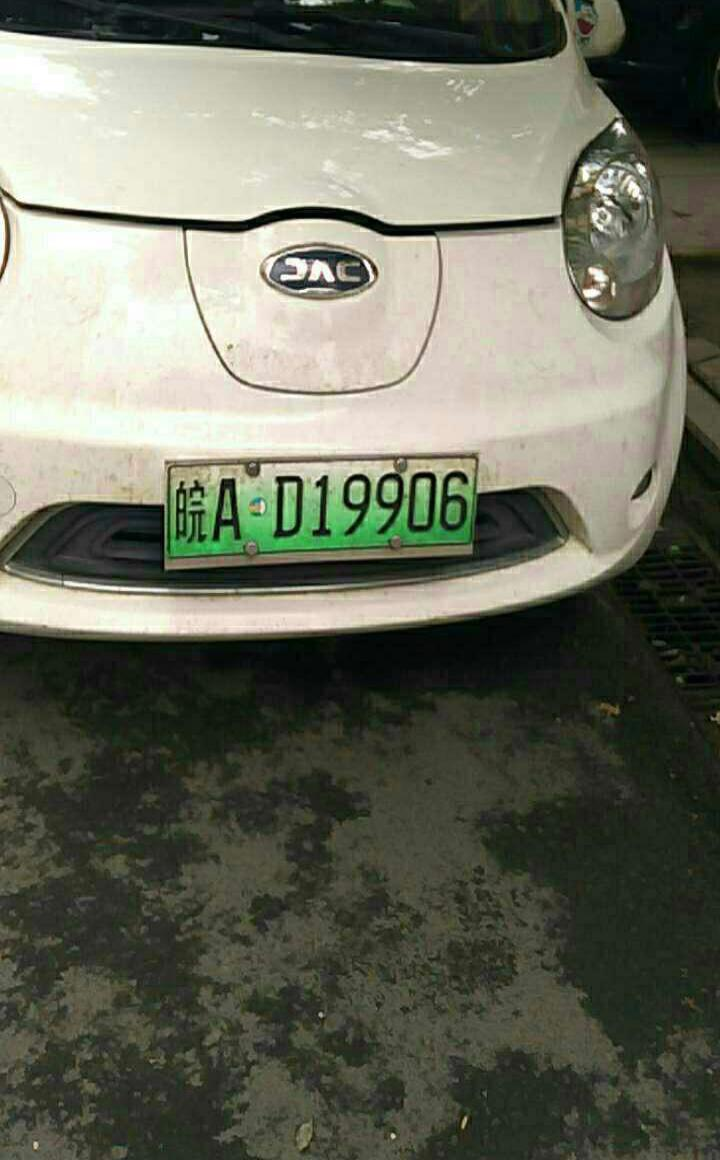car_id: (166, 460, 476, 559)
